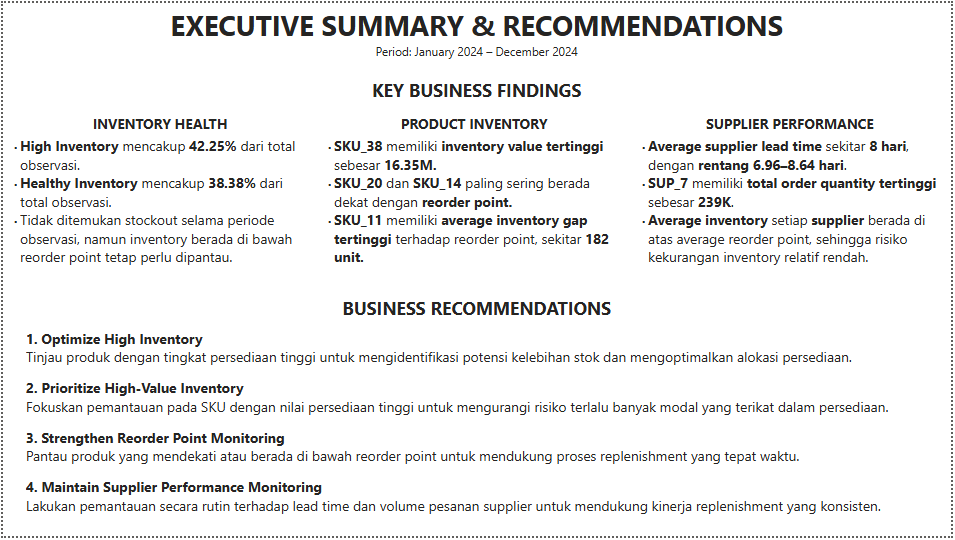

Layout of this report page (visuals, bound fields, positions):
{"tool":"powerbi","page":{"name":"Executive Summary","canvas":[1280,720],"ordinal":3},"visuals":[{"type":"textbox","box":[0,0,1280,90],"z":0},{"type":"textbox","box":[0,95.7,1280,45.7],"z":1000},{"type":"textbox","box":[0,390.4,1280,45.7],"z":2000},{"type":"textbox","title":"INVENTORY HEALTH","box":[0,150.4,424.3,241.4],"z":3000},{"type":"textbox","title":"PRODUCT INVENTORY","box":[424.3,150.4,424.3,214.3],"z":4000},{"type":"textbox","title":"SUPPLIER PERFORMANCE","box":[848.6,150.4,429,241.4],"z":5000},{"type":"textbox","box":[25.7,435.7,1230,265.7],"z":6000}]}

Visuals, with their boxes in screenshot pixels (x1, y1, x2, y2), scaled from the page's 1280x720 canvas onto the 955x540 screenshot:
textbox: 0/0/954/68
textbox: 0/72/954/106
textbox: 0/293/954/327
"INVENTORY HEALTH" textbox: 0/113/317/294
"PRODUCT INVENTORY" textbox: 317/113/633/274
"SUPPLIER PERFORMANCE" textbox: 633/113/953/294
textbox: 19/327/937/526
